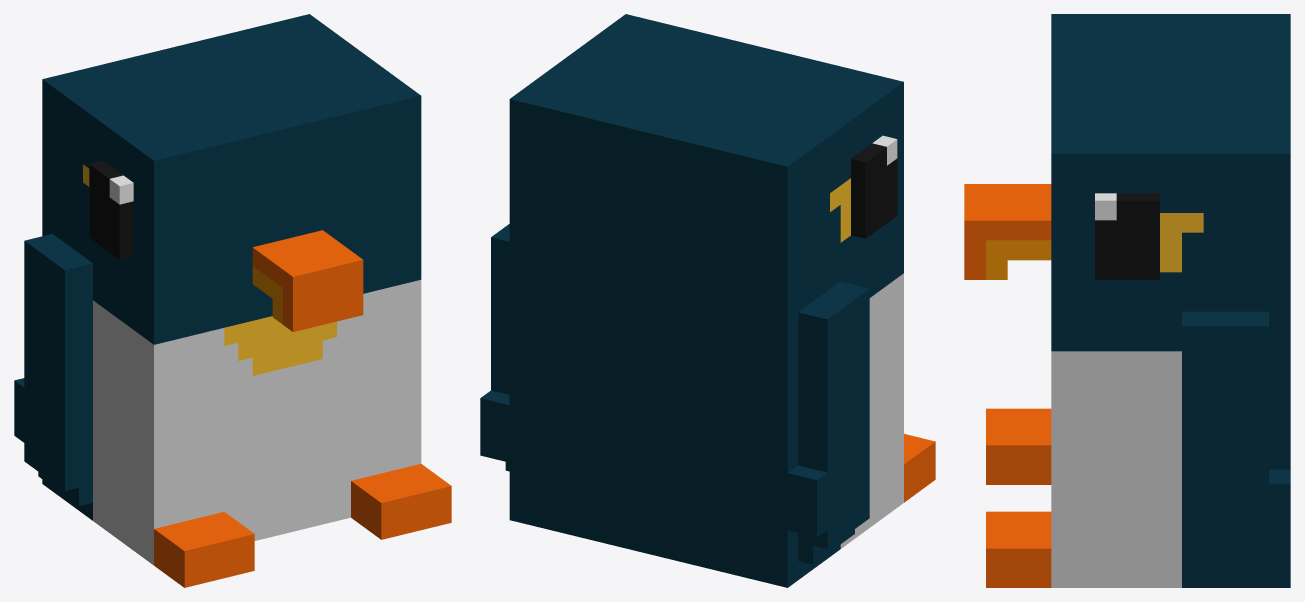
File: Penguin.fbx
The picture shows the model from 3 angles, left to right: view 1: azimuth 30°, elevation 25°; view 2: azimuth 150°, elevation 25°; view 3: azimuth 270°, elevation 25°; orthographic projection. The views are drawn at different scales.
Visible parts, largest first — view 1: Penguin; view 2: Penguin; view 3: Penguin.
Part boxes in pixels (x1,y1,x2,y2): Penguin: (14,14,451,587); Penguin: (480,14,935,587); Penguin: (964,14,1290,587).
Bounding box in the file's own units: 184 × 220 × 150.
Materials: 1 (1 with a texture image).
